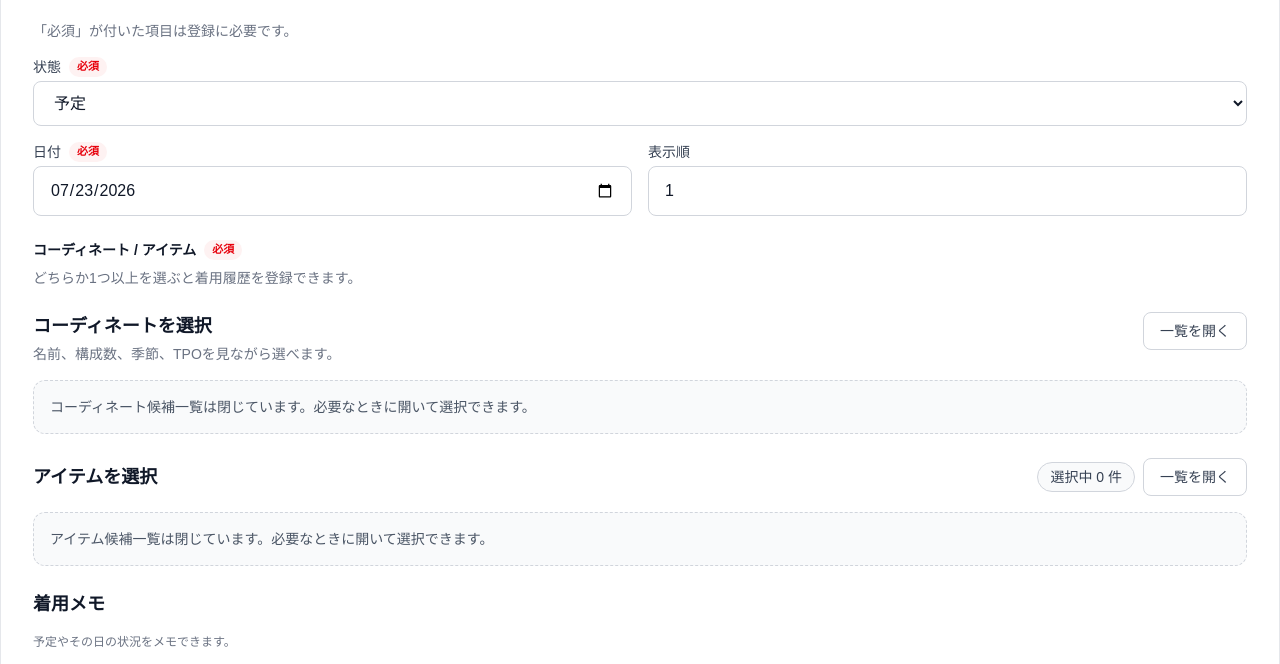
Test: WearLogForm › item 1件解除後は関連コーディネート候補を閉じる
Click the button with test id "wear-log-item-list-toggle" at x=1195, y=477, box 1143,458 -> 1247,496
(page scrolled)
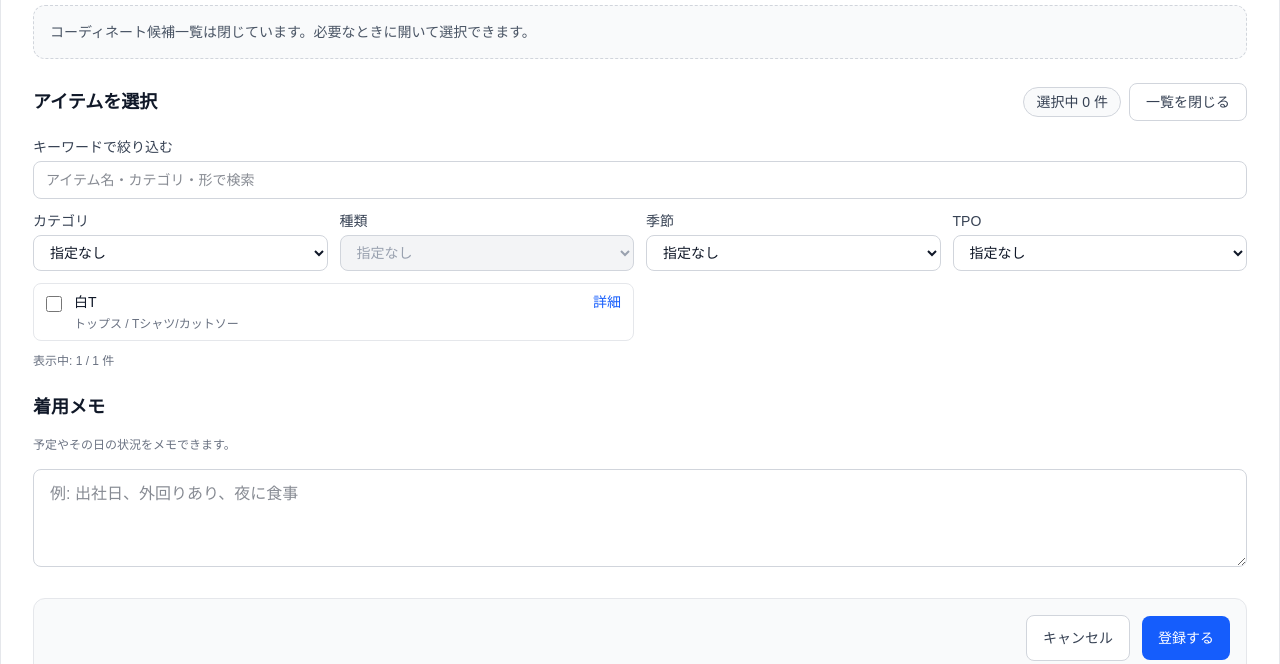
Click the checkbox with id "wear-log-item-1" at x=54, y=304, box 46,296 -> 62,312
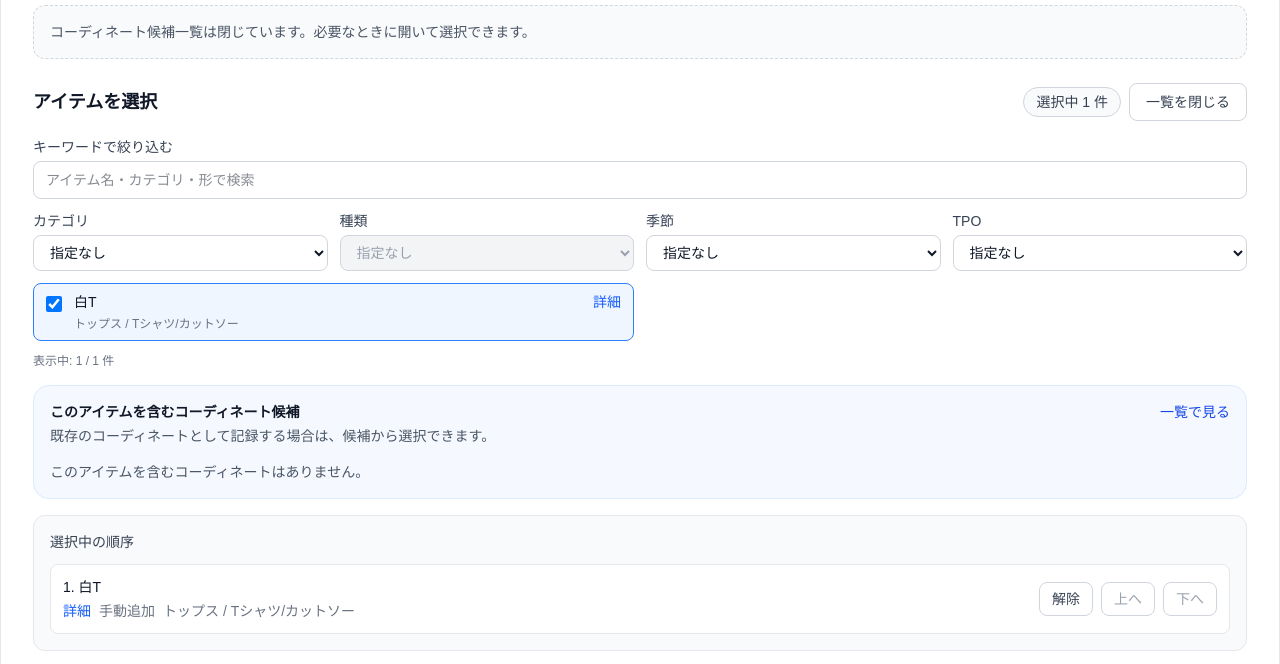
Expected: the element with test id "wear-log-related-outfits" is shown, 33,385 -> 1247,499
Click the button with test id "wear-log-selected-item-remove-1" at x=1066, y=599, box 1039,582 -> 1093,616
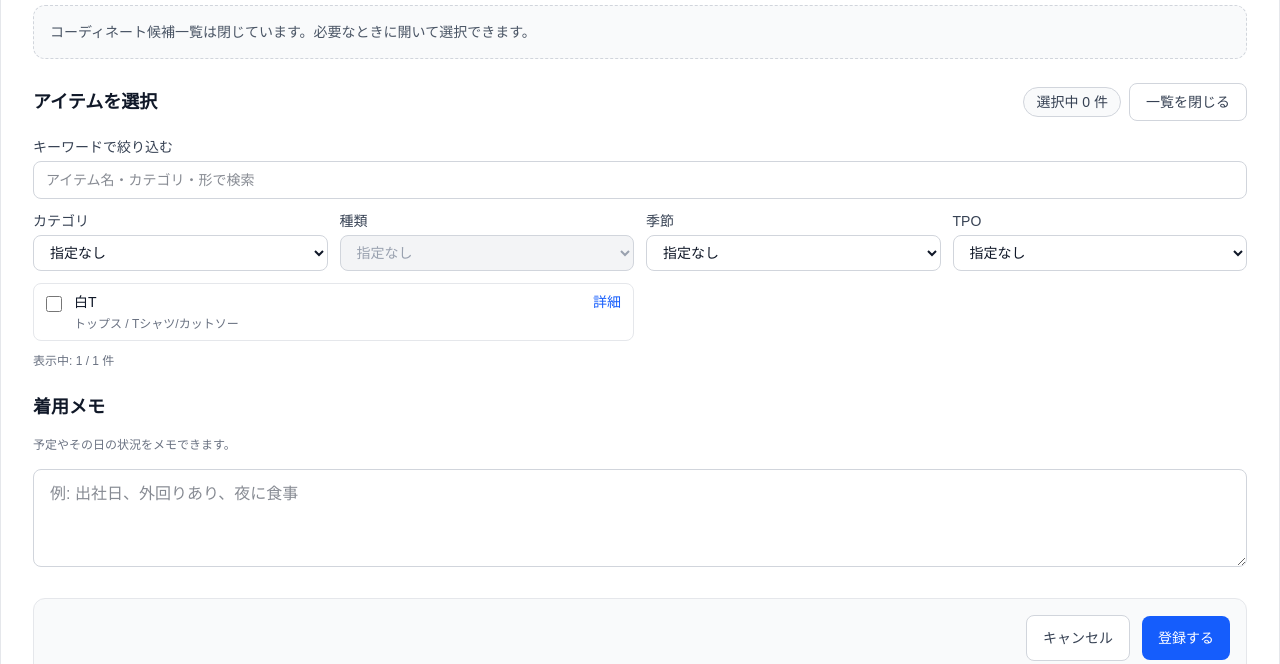
Expected: the element with test id "wear-log-related-outfits" is gone
Expected: the text "選択中 0 件" is shown, 1023,87 -> 1121,117
